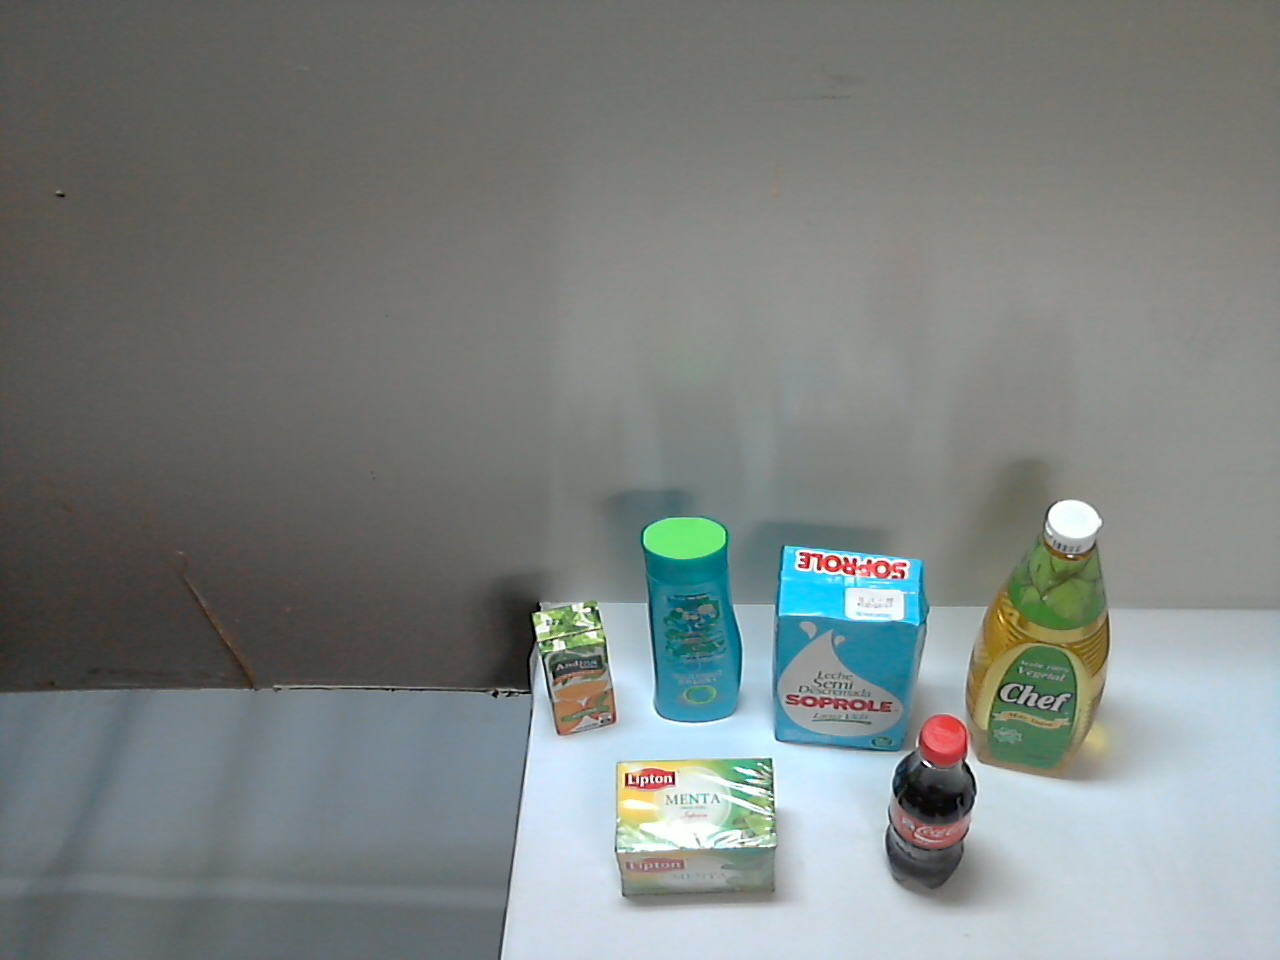aceite: (642, 416, 782, 698)
cloro: (774, 475, 946, 723)
confort: (921, 446, 1225, 825)
desodorante: (730, 679, 821, 806)
ketchup: (508, 641, 624, 809)
yogurt: (516, 416, 664, 700)
